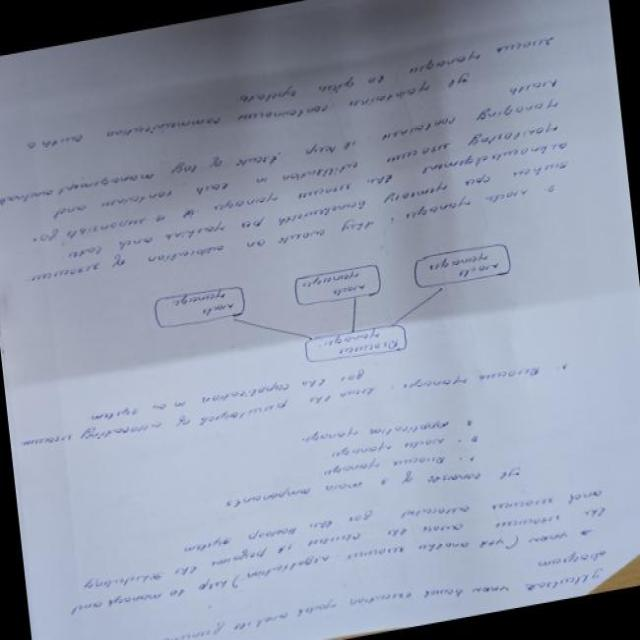Figure Detection - v3 Dataset Version2: (124, 207, 553, 404)
